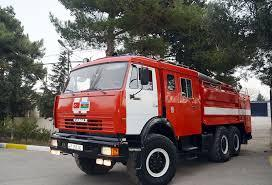Fire-engine: (51, 46, 259, 180)
